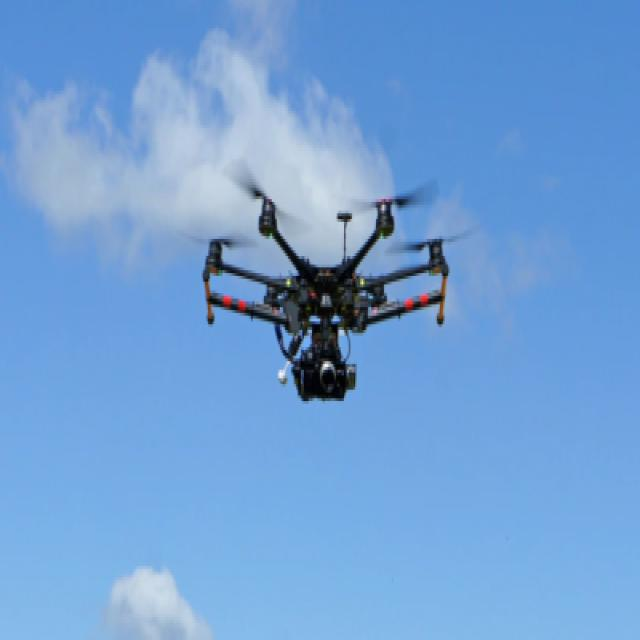drone: (178, 162, 480, 402)
